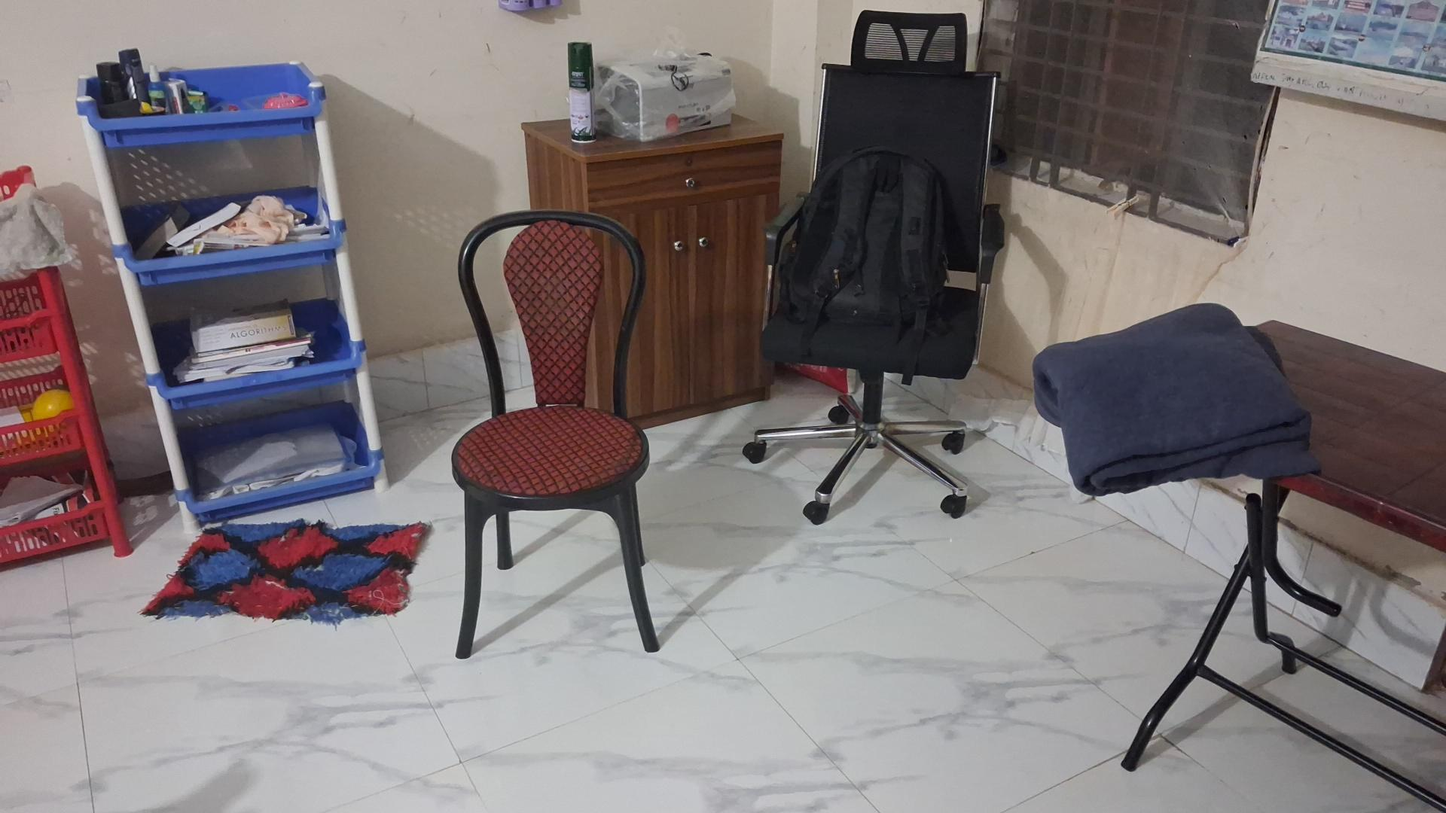Blanket: (1025, 307, 1305, 490)
Book: (195, 306, 294, 348)
Bottle: (558, 43, 603, 148)
Chair: (741, 12, 1004, 525), (451, 209, 659, 659)
Floor Mat: (151, 523, 439, 641)
Rack: (79, 51, 385, 510), (0, 159, 138, 555)
Table: (1120, 316, 1441, 806)
Window: (970, 0, 1263, 257)
